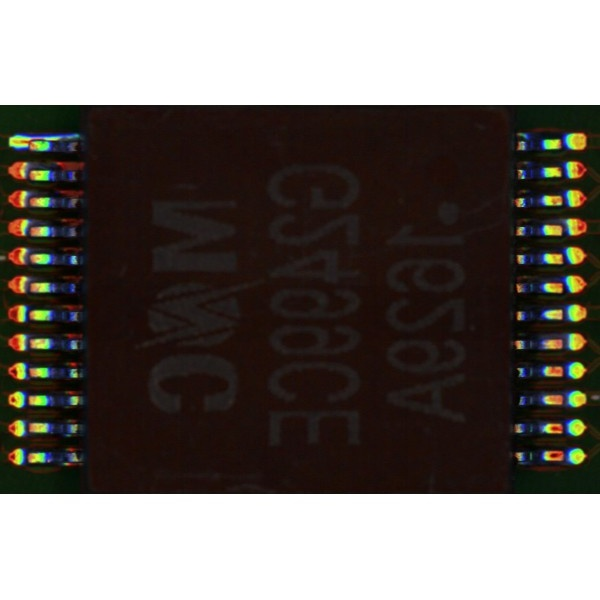Bad_podu: (18, 139, 34, 146)
Bad_qiaojiao: (30, 134, 82, 140)
